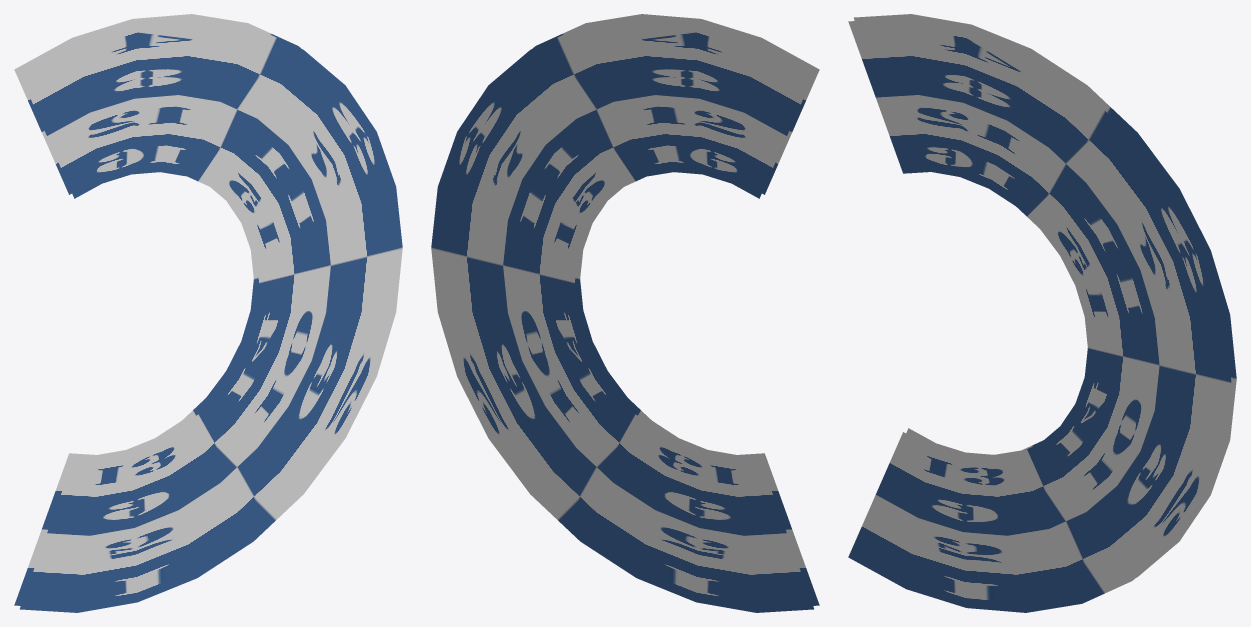
The model's file is Shinobu_Slash.fbx.
3 views of the same model, side by side, from view 1: azimuth 30°, elevation 25°; view 2: azimuth 150°, elevation 25°; view 3: azimuth 330°, elevation 25° (orthographic).
Parts seen in each view (by area): view 1: SM_e_Skl_In_Slash002; view 2: SM_e_Skl_In_Slash002; view 3: SM_e_Skl_In_Slash002.
Boxes of the visible parts, box(x1,y1,x2,y2) form: SM_e_Skl_In_Slash002: box(14, 14, 402, 612); SM_e_Skl_In_Slash002: box(431, 14, 819, 612); SM_e_Skl_In_Slash002: box(848, 14, 1236, 612).
Size of the model in its own units: 67.55 by 97.62 by 1.62.
